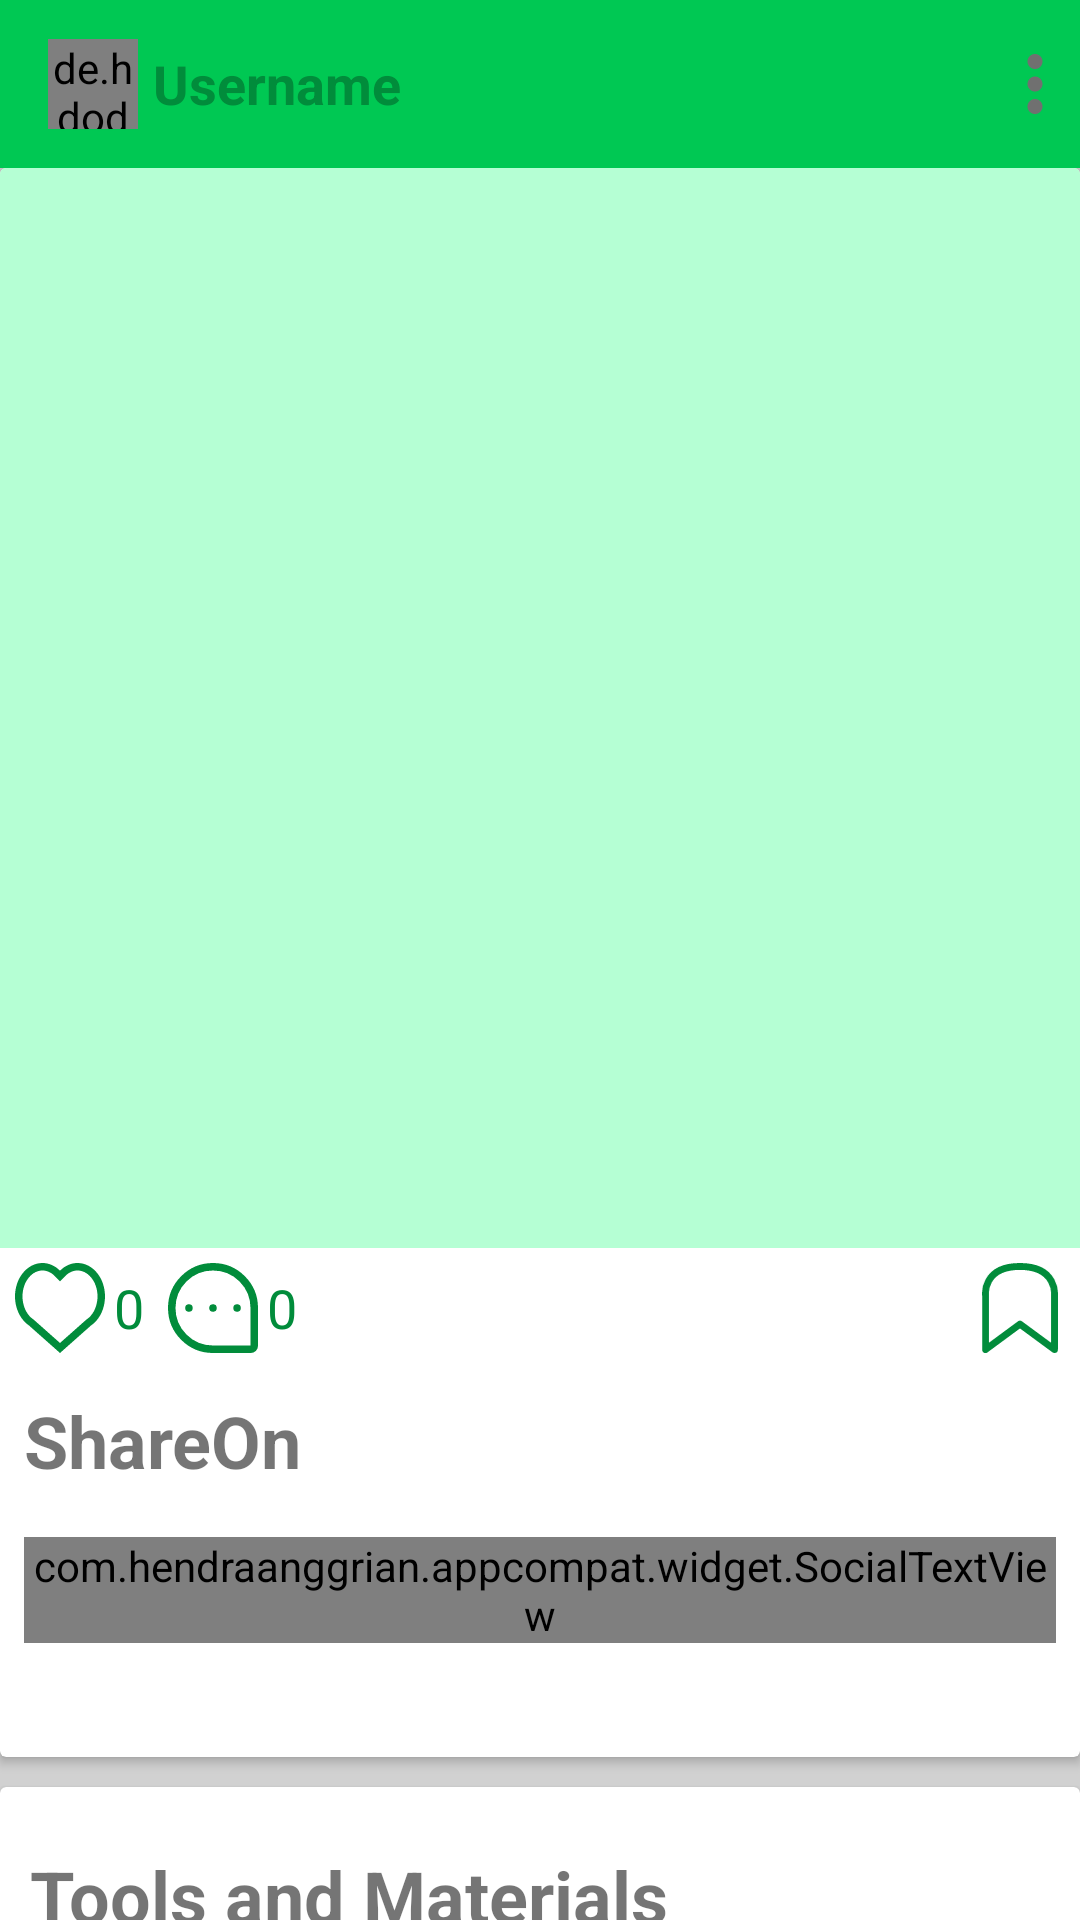

Icons on this 1080px×1920px Android screen, each with the point to tap as (x=x, y=y):
chat: (x=213, y=1308)
love: (x=60, y=1308)
more: (x=1035, y=84)
save: (x=1020, y=1308)
